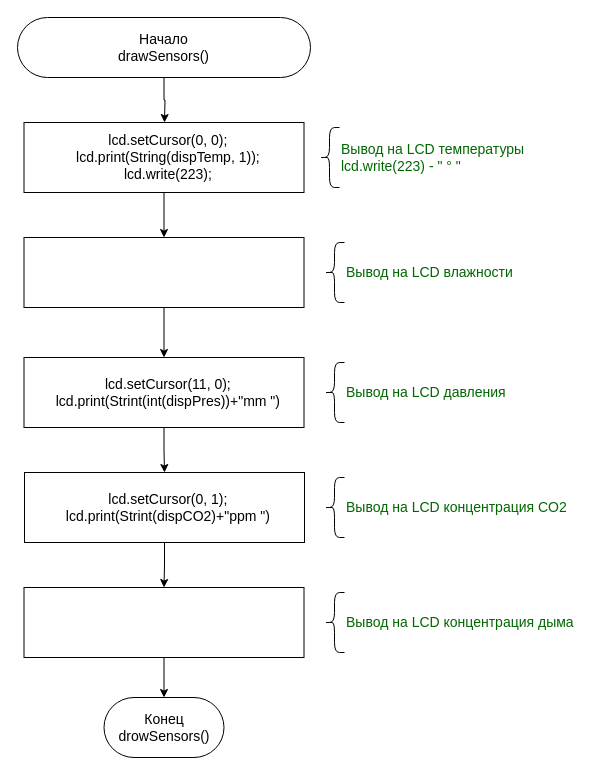
This 612x775 diagram has some shape labels left out. Here are the shapes that lost their labels. From the top down, the box of each, then its label:
(23, 236, 304, 308): lcd.setCursor(6, 0); lcd.print(String(dispHum) + "% ");
(23, 586, 304, 658): lcd.setCursor(8, 1); lcd.print(String(int(dispSmoke))+"GAS")
